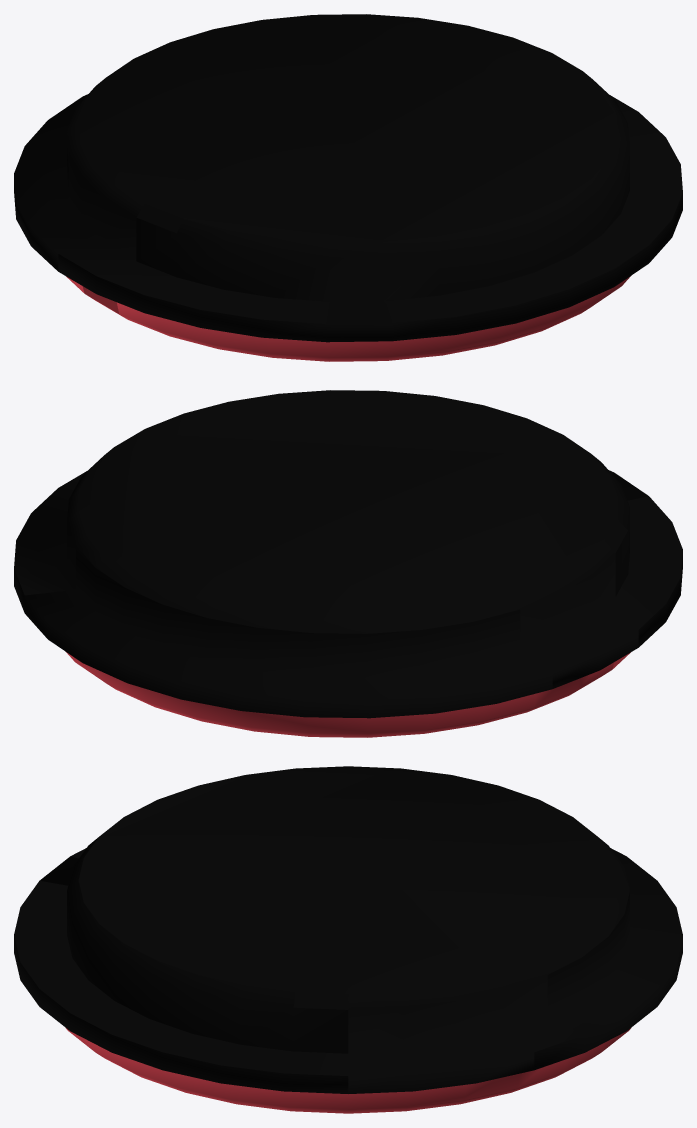
Rendered from RyskinimoIndasVirsus.glb.
The picture shows the model from 3 angles, top to bottom: view 1: azimuth 30°, elevation 25°; view 2: azimuth 150°, elevation 25°; view 3: azimuth 270°, elevation 25°; orthographic projection.
Visible parts, largest first — view 1: VirsusKanistras; view 2: VirsusKanistras; view 3: VirsusKanistras.
Part boxes in pixels (bbox=[...]): VirsusKanistras: bbox=[14, 14, 682, 361]; VirsusKanistras: bbox=[14, 390, 682, 737]; VirsusKanistras: bbox=[14, 766, 682, 1113].
Size of the model in its own units: 2.57 by 0.4646 by 2.57.
